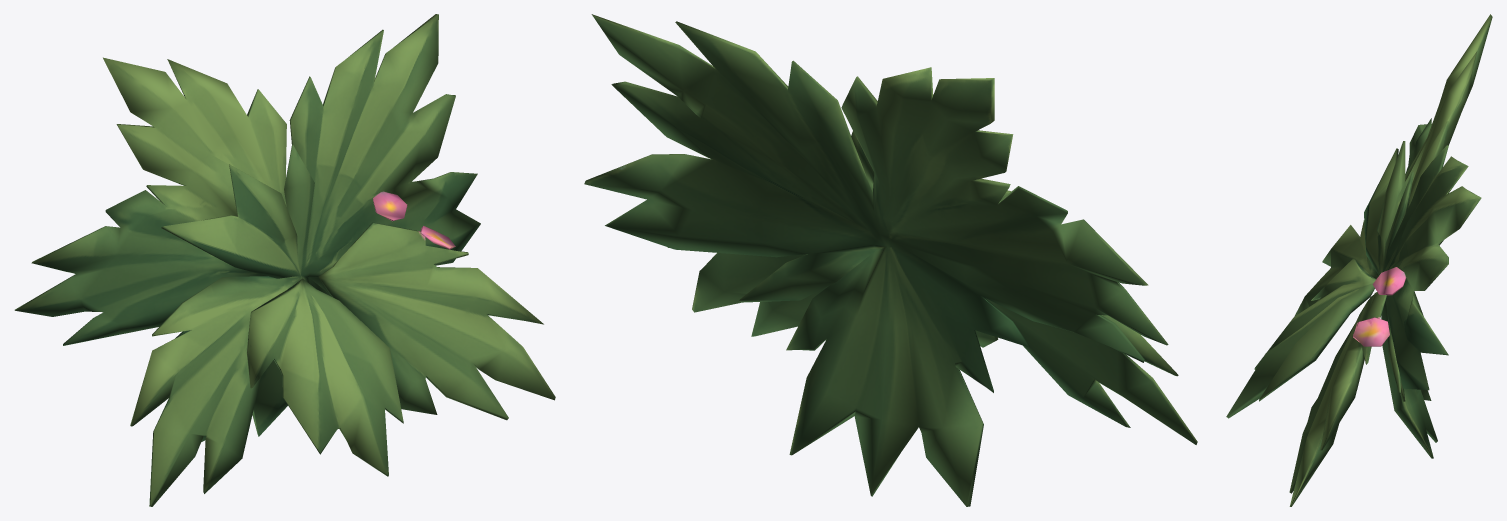
The picture shows the model from 3 angles, left to right: view 1: azimuth 30°, elevation 25°; view 2: azimuth 150°, elevation 25°; view 3: azimuth 270°, elevation 25°; orthographic projection. The views are drawn at different scales.
Parts seen in each view (by area): view 1: coast-shrub-1; view 2: coast-shrub-1; view 3: coast-shrub-1.
Boxes of the visible parts, x1,y1,x2,y2 form: coast-shrub-1: [14, 14, 555, 506]; coast-shrub-1: [584, 14, 1197, 506]; coast-shrub-1: [1226, 14, 1492, 506].
Bounding box in the file's own units: 0.4579 × 0.3659 × 0.2387.
1 material, 1 textured.
